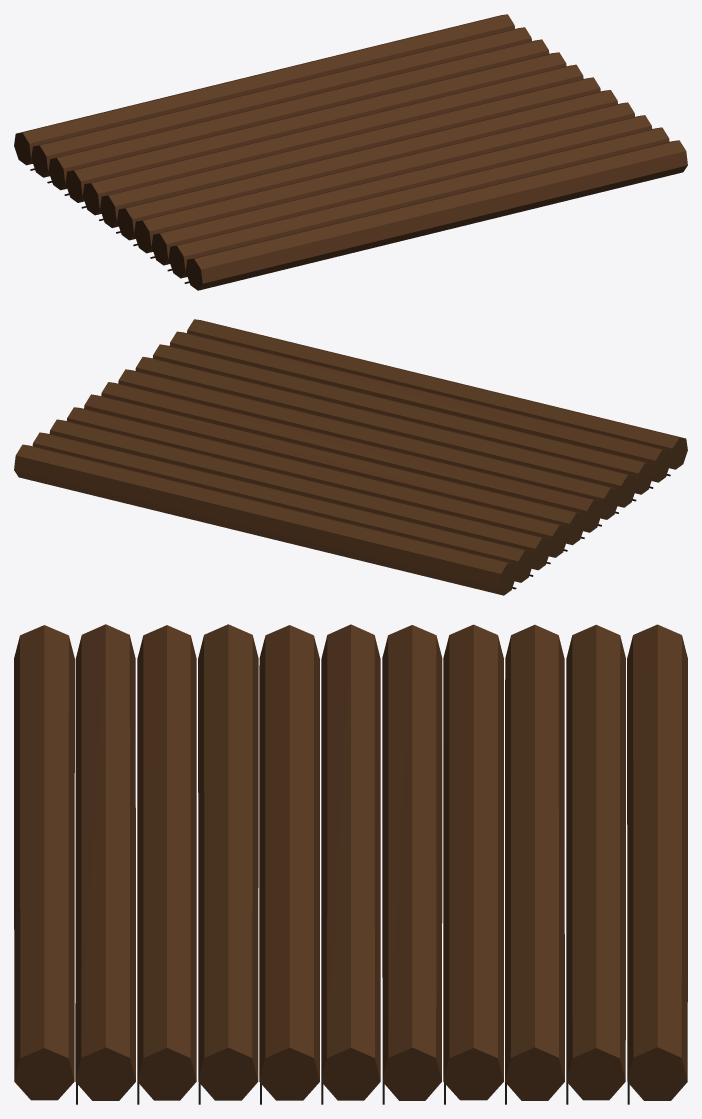
The model's file is SM_Izba_WallSolid_1348_LOD1.obj.
3 views of the same model, one above another, from view 1: azimuth 30°, elevation 25°; view 2: azimuth 150°, elevation 25°; view 3: azimuth 270°, elevation 25° (orthographic). The views are drawn at different scales.
Parts seen in each view (by area): view 1: log_course_10, log_course_0, log_course_7, log_course_9, log_course_3, log_course_4, log_course_2, log_course_5, log_course_6, log_course_1, log_course_8, sawn_end; view 2: log_course_0, log_course_9, log_course_2, log_course_7, log_course_6, log_course_3, log_course_5, log_course_4, log_course_10, log_course_8, log_course_1, sawn_end; view 3: sawn_end, log_course_7, log_course_3, log_course_10, log_course_0, log_course_9, log_course_6, log_course_4, log_course_1, log_course_5, log_course_8, log_course_2 (+1 smaller).
Boxes of the visible parts, x1,y1,x2,y2 form: log_course_10: [189, 140, 687, 290]; log_course_0: [16, 14, 514, 165]; log_course_7: [138, 102, 634, 253]; log_course_9: [171, 127, 669, 278]; log_course_3: [68, 52, 566, 202]; log_course_4: [86, 64, 583, 215]; log_course_2: [52, 39, 549, 189]; log_course_5: [105, 77, 600, 227]; log_course_6: [121, 90, 617, 240]; log_course_1: [34, 27, 531, 177]; log_course_8: [155, 115, 652, 265]; sawn_end: [14, 132, 202, 290]; log_course_0: [14, 444, 512, 595]; log_course_9: [169, 331, 666, 482]; log_course_2: [49, 419, 547, 570]; log_course_7: [135, 357, 632, 507]; log_course_6: [118, 369, 615, 519]; log_course_3: [67, 407, 565, 557]; log_course_5: [101, 382, 598, 532]; log_course_4: [84, 394, 581, 544]; log_course_10: [187, 319, 684, 469]; log_course_8: [152, 344, 650, 494]; log_course_1: [32, 432, 529, 582]; sawn_end: [499, 437, 687, 595]; sawn_end: [14, 1047, 687, 1100]; log_course_7: [198, 624, 258, 1081]; log_course_3: [443, 624, 503, 1080]; log_course_10: [14, 625, 74, 1080]; log_course_0: [627, 624, 687, 1080]; log_course_9: [75, 624, 135, 1081]; log_course_6: [259, 625, 319, 1080]; log_course_4: [382, 625, 442, 1080]; log_course_1: [566, 624, 625, 1080]; log_course_5: [321, 624, 380, 1080]; log_course_8: [137, 625, 196, 1081]; log_course_2: [505, 624, 564, 1080].
Size of the model in its own units: 4 by 0.2538 by 2.69.
